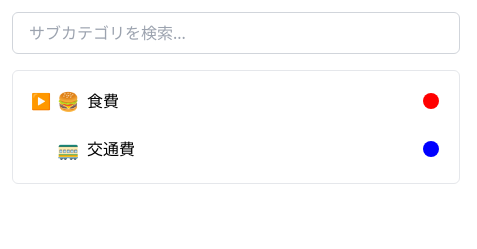
Scenario: SubcategorySelector › 階層構造の表示 › 展開ボタンをクリックすると子サブカテゴリが表示される
Click the button named "展開する" at [41, 101], box [33,93,49,109]
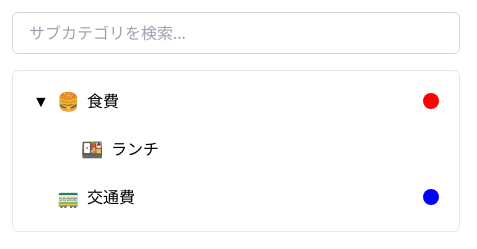
Now the text "ランチ" is shown, box [111,138,159,160]
